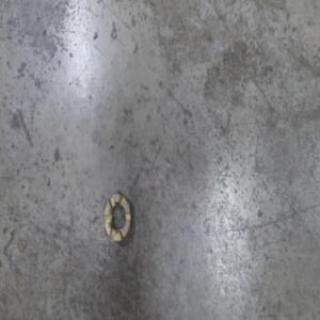Nuttrack_idkeyframe: (101, 188, 132, 246)
